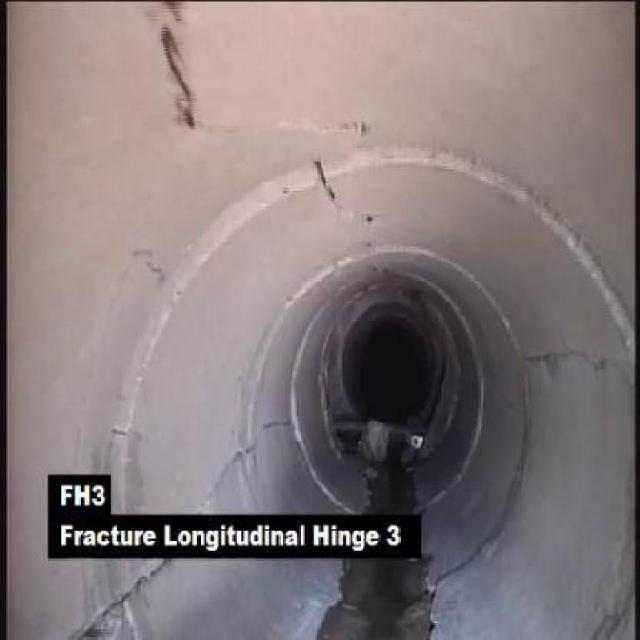Crack: (137, 6, 217, 154), (68, 558, 168, 638), (194, 438, 257, 512), (302, 153, 358, 224), (532, 340, 626, 375), (128, 237, 177, 295)
Joint offset: (181, 171, 294, 263), (111, 298, 177, 424)
